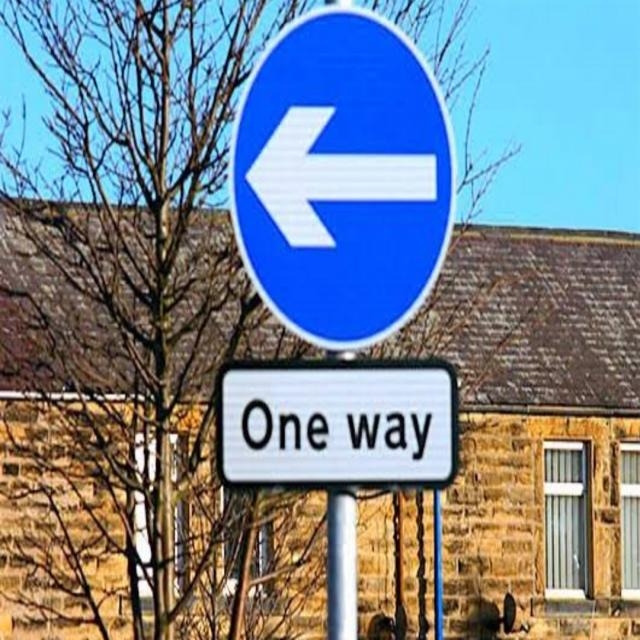Turn Left: (232, 12, 460, 349)
